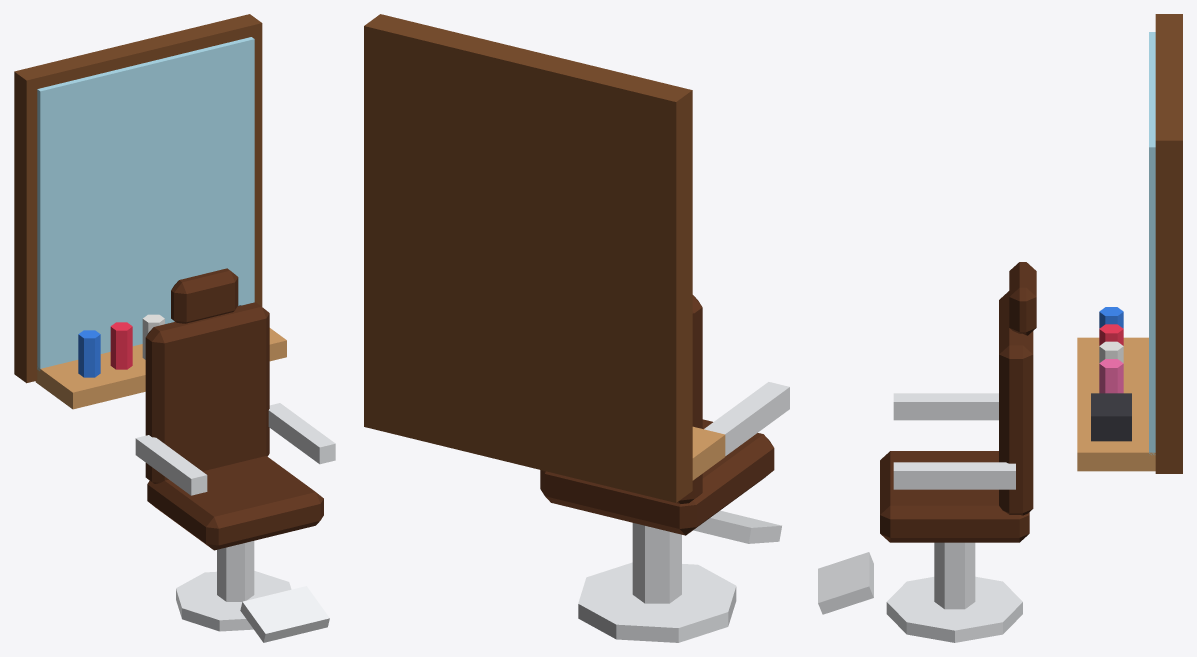
File: SalonStation.fbx
3 views of the same model, side by side, from view 1: azimuth 30°, elevation 25°; view 2: azimuth 150°, elevation 25°; view 3: azimuth 270°, elevation 25° (orthographic). The views are drawn at different scales.
Visible parts, largest first — view 1: SalonStation; view 2: SalonStation; view 3: SalonStation.
Boxes of the visible parts, <box> form: SalonStation: <box>14,14,335,642</box>; SalonStation: <box>364,14,789,642</box>; SalonStation: <box>818,14,1182,642</box>.
Size of the model in its own units: 4.4 by 8.7 by 5.36.
1 material, 1 textured.
